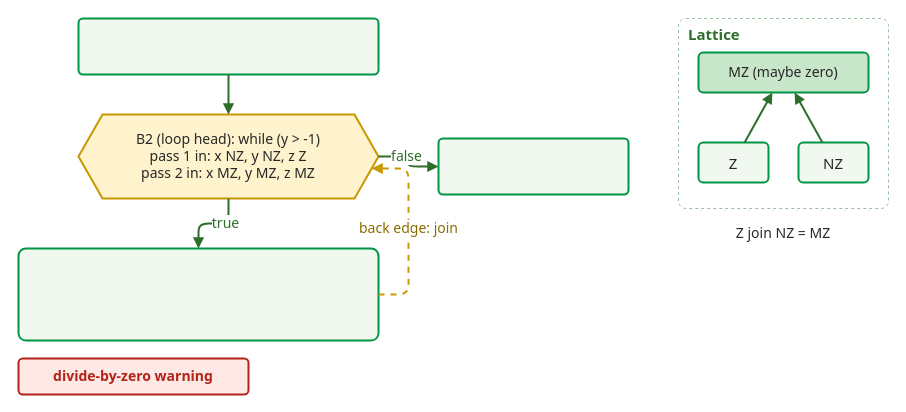
Some shapes in this 906 by 412 pixel diagram are drawn without their labels. The shapes that lost their labels are listed below. From the top down, each one's centre as x and y in pixels, then its label:
point (228, 46): B1: x = 10; y = x; z = 0 x NZ, y NZ, z Z
point (533, 166): B4: exit x MZ, y MZ, z MZ
point (198, 294): B3: x = x / y (y is MZ: warn) y = y - 1 z = 5 out: x MZ, y MZ, z NZ
